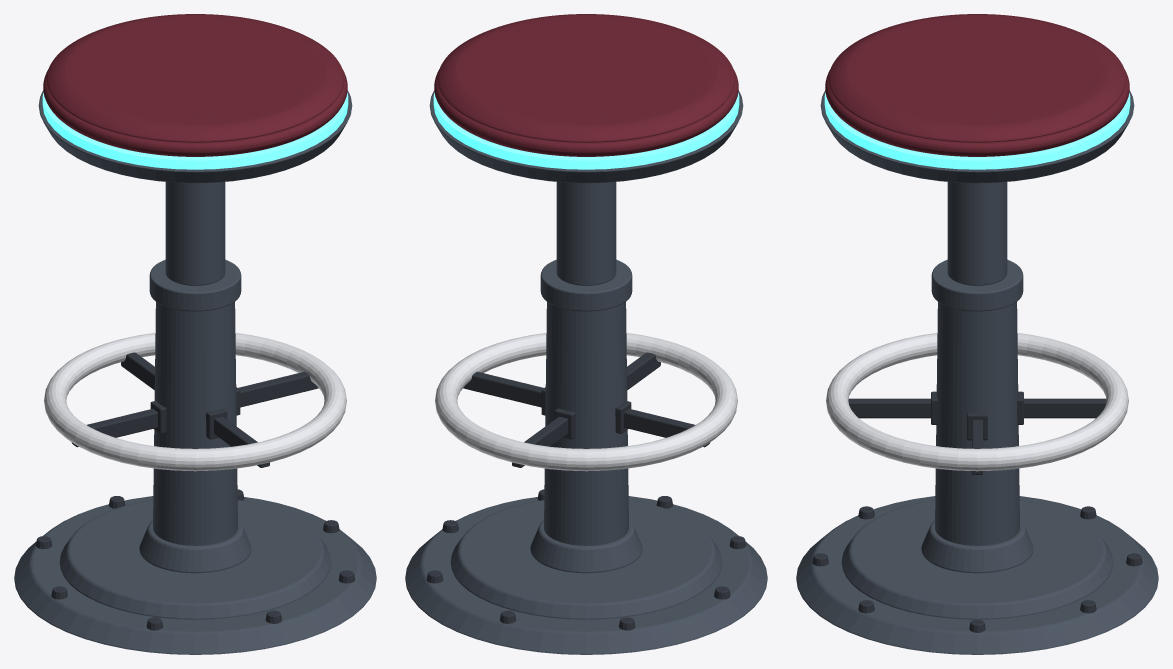
File: cantina_05_bar_stool.glb
3 renders of one model, left to right at view 1: azimuth 30°, elevation 25°; view 2: azimuth 150°, elevation 25°; view 3: azimuth 270°, elevation 25°, orthographic.
Visible parts, largest first — view 1: Floor_Base_Plate, Seat_Cushion, Pedestal_Column, Footrest_Ring, Footrest_Arms, Seat_Cyan_Light_Ring, Seat_Base_Pan, Base_Bolts; view 2: Floor_Base_Plate, Seat_Cushion, Pedestal_Column, Footrest_Ring, Footrest_Arms, Seat_Cyan_Light_Ring, Seat_Base_Pan, Base_Bolts; view 3: Floor_Base_Plate, Seat_Cushion, Pedestal_Column, Footrest_Ring, Footrest_Arms, Seat_Cyan_Light_Ring, Seat_Base_Pan, Base_Bolts.
Part boxes in pixels (x1,y1,x2,y2): Floor_Base_Plate: [14, 496, 376, 654]; Seat_Cushion: [43, 14, 347, 156]; Pedestal_Column: [149, 182, 241, 545]; Footrest_Ring: [44, 333, 346, 471]; Footrest_Arms: [71, 352, 318, 467]; Seat_Cyan_Light_Ring: [42, 92, 348, 169]; Seat_Base_Pan: [38, 90, 352, 183]; Base_Bolts: [35, 489, 355, 630]; Floor_Base_Plate: [405, 496, 767, 654]; Seat_Cushion: [434, 14, 738, 156]; Pedestal_Column: [540, 182, 632, 545]; Footrest_Ring: [435, 333, 737, 471]; Footrest_Arms: [463, 352, 710, 467]; Seat_Cyan_Light_Ring: [433, 92, 739, 169]; Seat_Base_Pan: [429, 90, 743, 183]; Base_Bolts: [426, 489, 746, 630]; Floor_Base_Plate: [796, 496, 1158, 654]; Seat_Cushion: [825, 14, 1129, 156]; Pedestal_Column: [931, 182, 1023, 545]; Footrest_Ring: [826, 333, 1128, 471]; Footrest_Arms: [848, 391, 1106, 474]; Seat_Cyan_Light_Ring: [824, 92, 1130, 169]; Seat_Base_Pan: [820, 90, 1134, 183]; Base_Bolts: [812, 506, 1142, 632].
Size of the model in its own units: 0.517 by 0.8 by 0.517.
